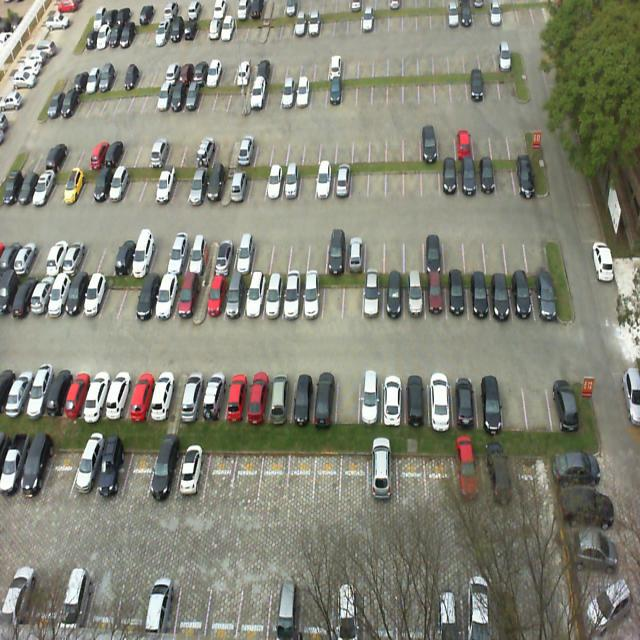space-empty: (123, 442, 157, 502), (43, 445, 79, 499), (231, 451, 264, 505), (204, 448, 238, 498), (312, 451, 342, 507), (259, 448, 291, 500), (499, 373, 527, 431), (523, 371, 549, 428), (117, 271, 145, 323), (288, 449, 314, 504), (101, 270, 125, 320), (335, 373, 359, 423), (483, 227, 507, 275), (443, 226, 466, 273), (505, 227, 527, 273), (525, 229, 549, 271), (148, 237, 172, 278), (322, 277, 343, 323), (172, 165, 194, 207), (139, 165, 162, 205), (404, 226, 424, 272), (382, 231, 404, 272), (287, 234, 309, 274), (464, 228, 484, 272), (251, 235, 273, 273), (268, 236, 290, 272), (345, 275, 362, 321), (307, 234, 327, 273), (364, 235, 383, 273), (299, 166, 317, 205), (250, 166, 268, 204), (368, 162, 386, 200), (494, 160, 514, 194), (403, 163, 421, 197), (422, 163, 440, 197), (388, 162, 404, 200), (351, 164, 367, 198)
space-occupied: (94, 445, 132, 502), (71, 446, 106, 501), (148, 444, 182, 500), (545, 370, 576, 426), (175, 445, 209, 495), (223, 370, 254, 424), (21, 446, 55, 494), (64, 367, 93, 421), (476, 372, 502, 429), (222, 272, 249, 326), (83, 371, 112, 421), (136, 267, 162, 321), (428, 375, 454, 429), (452, 374, 479, 426), (106, 371, 134, 421), (268, 373, 294, 425), (312, 372, 336, 428), (154, 274, 180, 324), (127, 370, 153, 420), (203, 370, 229, 420), (246, 372, 272, 422), (262, 270, 286, 324), (530, 270, 557, 318), (148, 374, 175, 422), (359, 371, 382, 426), (174, 272, 198, 324), (405, 374, 429, 426), (241, 275, 265, 325), (290, 372, 313, 424), (382, 371, 405, 423), (486, 273, 511, 320), (181, 373, 206, 419), (205, 273, 225, 327), (130, 236, 156, 276), (113, 238, 140, 276), (303, 276, 324, 324), (167, 238, 193, 276), (467, 275, 488, 322), (509, 276, 531, 320), (188, 164, 211, 206), (444, 277, 467, 319), (282, 276, 302, 324), (425, 229, 445, 276), (188, 239, 212, 278), (155, 165, 177, 207), (511, 156, 534, 196), (363, 276, 383, 322), (404, 274, 424, 320), (426, 276, 446, 322), (204, 166, 226, 206), (231, 164, 252, 205), (229, 238, 251, 277), (345, 231, 364, 275), (384, 276, 402, 322), (213, 239, 235, 275), (324, 235, 344, 273), (458, 162, 478, 198), (478, 158, 496, 198), (283, 164, 300, 205), (267, 166, 283, 207), (333, 165, 350, 201), (440, 162, 458, 195), (316, 166, 332, 200)
